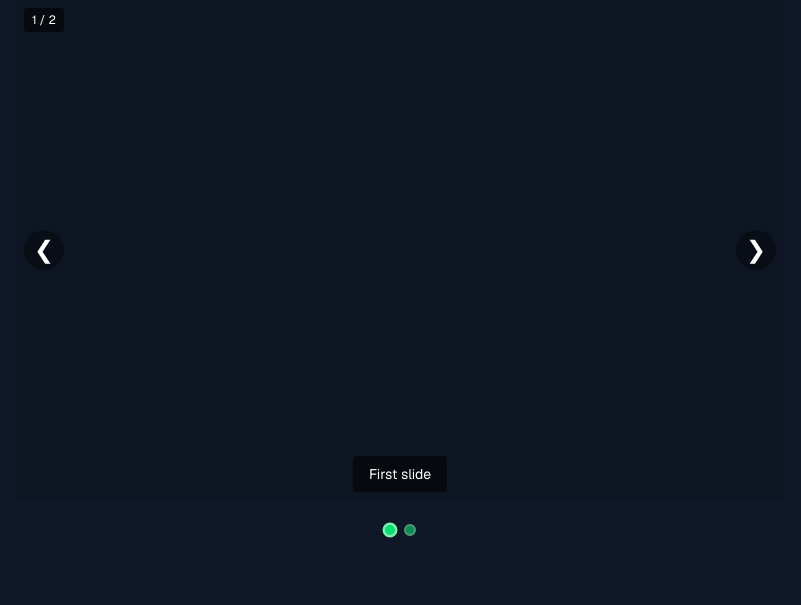
Test: Carousel component › should render the current slide and show the description when available
Expected: the text "First slide" is shown, left=353, top=456, right=447, bottom=492
Click the button named "Próximo slide" at point(756, 250), box left=736, top=230, right=776, bottom=270
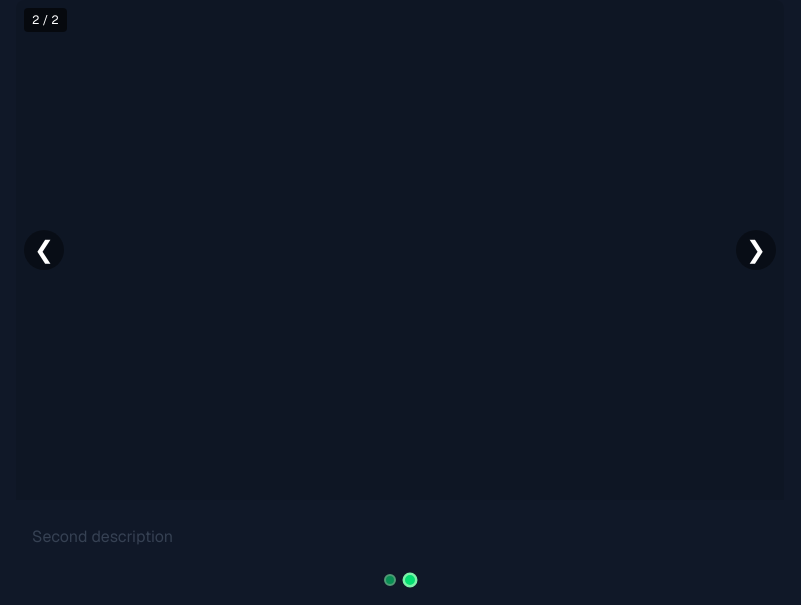
Expected: the text "Second description" is shown, left=32, top=526, right=173, bottom=547
Press ArrowLeft
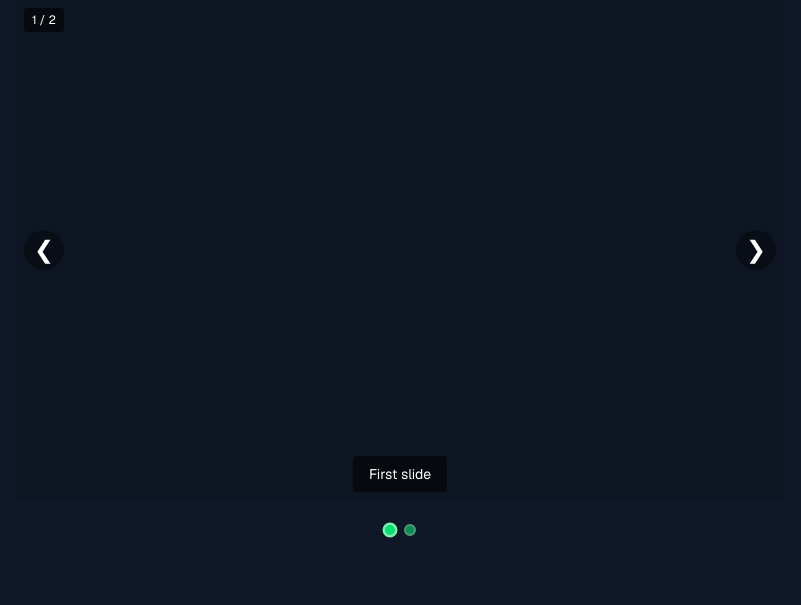
Expected: the text "First slide" is shown, left=353, top=456, right=447, bottom=492
